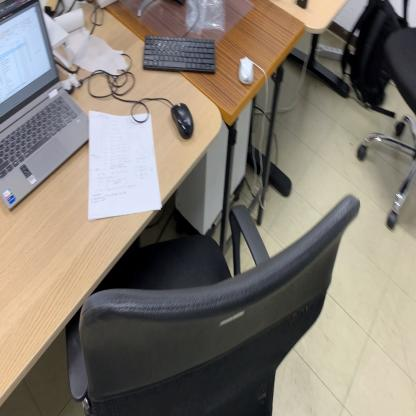chair: (66, 192, 361, 416), (355, 26, 416, 227)
